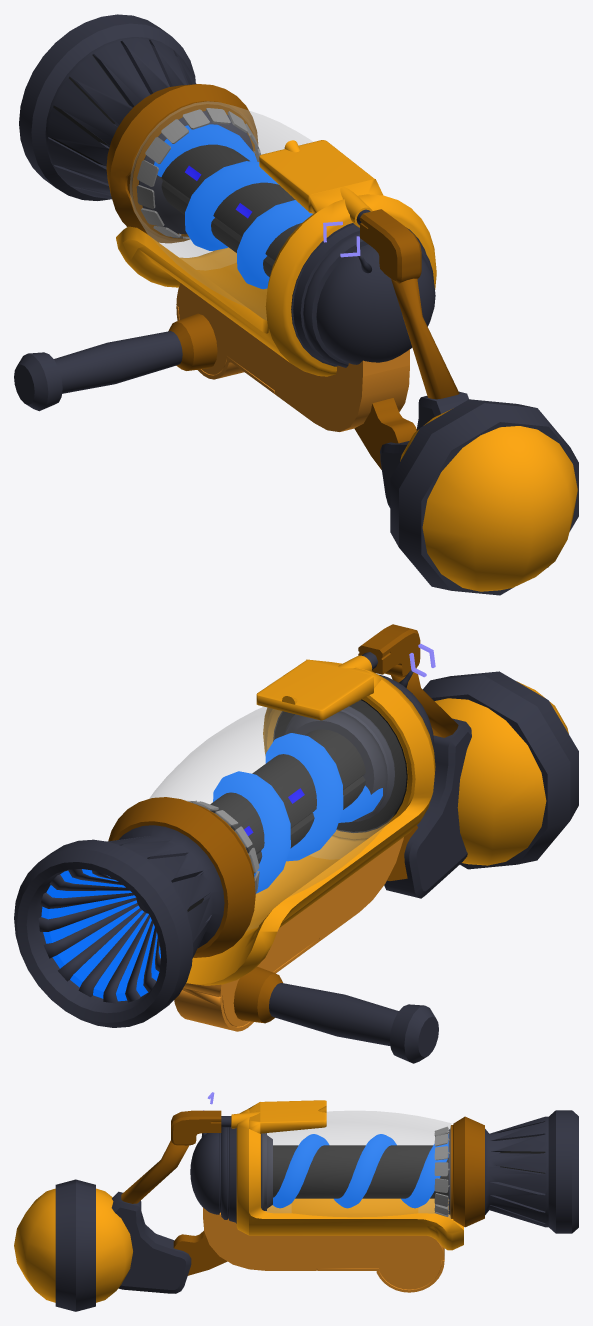
File: Vacpack.glb
3 renders of one model, top to bottom at view 1: azimuth 30°, elevation 25°; view 2: azimuth 150°, elevation 25°; view 3: azimuth 270°, elevation 25°, orthographic. The views are drawn at different scales.
Parts seen in each view (by area): view 1: Glass, Handle-Sphere, VCircle3, Nossle, VCircle2, HandleFrame, Handle-Line, Spiral, VCircle, Handle3, Rod, Circular (+6 smaller); view 2: Glass, Nossle, VCircle3, Handle-Sphere, Handle-Line, Spiral, HandleFrame, VCircle, Handle3, Nossle-Black, Handle-Block, Rod (+7 smaller); view 3: Glass, VCircle3, HandleFrame, Nossle, Handle-Sphere, Rod, Handle-Line, Spiral, Handle-Block, VCircle, VCircle2, Handle-1 (+4 smaller).
Part boxes in pixels (left/top/right/bottom): Glass: left=130, top=101, right=312, bottom=319; Handle-Sphere: left=400, top=408, right=577, bottom=591; VCircle3: left=116, top=140, right=436, bottom=376; Nossle: left=19, top=14, right=196, bottom=200; VCircle2: left=291, top=223, right=435, bottom=367; HandleFrame: left=176, top=283, right=409, bottom=431; Handle-Line: left=390, top=399, right=578, bottom=595; Spiral: left=154, top=124, right=312, bottom=289; VCircle: left=106, top=84, right=258, bottom=243; Handle3: left=14, top=331, right=182, bottom=411; Rod: left=161, top=144, right=301, bottom=277; Circular: left=136, top=108, right=260, bottom=238; Glass: left=149, top=700, right=405, bottom=930; Nossle: left=14, top=825, right=224, bottom=1027; VCircle3: left=186, top=655, right=435, bottom=985; Handle-Sphere: left=434, top=681, right=568, bottom=865; Handle-Line: left=423, top=671, right=578, bottom=869; Spiral: left=213, top=733, right=382, bottom=893; HandleFrame: left=174, top=837, right=403, bottom=1031; VCircle: left=108, top=797, right=255, bottom=957; Handle3: left=269, top=983, right=438, bottom=1063; Nossle-Black: left=38, top=869, right=160, bottom=1003; Handle-Block: left=384, top=718, right=471, bottom=898; Rod: left=210, top=729, right=365, bottom=863; Glass: left=261, top=1111, right=450, bottom=1218; VCircle3: left=231, top=1100, right=463, bottom=1250; HandleFrame: left=203, top=1207, right=444, bottom=1292; Nossle: left=485, top=1110, right=578, bottom=1233; Handle-Sphere: left=14, top=1188, right=132, bottom=1302; Rod: left=273, top=1145, right=448, bottom=1198; Handle-Line: left=55, top=1179, right=95, bottom=1311; Spiral: left=273, top=1134, right=448, bottom=1208; Handle-Block: left=111, top=1191, right=191, bottom=1293; VCircle: left=450, top=1116, right=484, bottom=1227; VCircle2: left=190, top=1127, right=236, bottom=1223; Handle-1: left=171, top=1110, right=221, bottom=1145.
Size of the model in its own units: 3.49 by 3.58 by 9.14.
